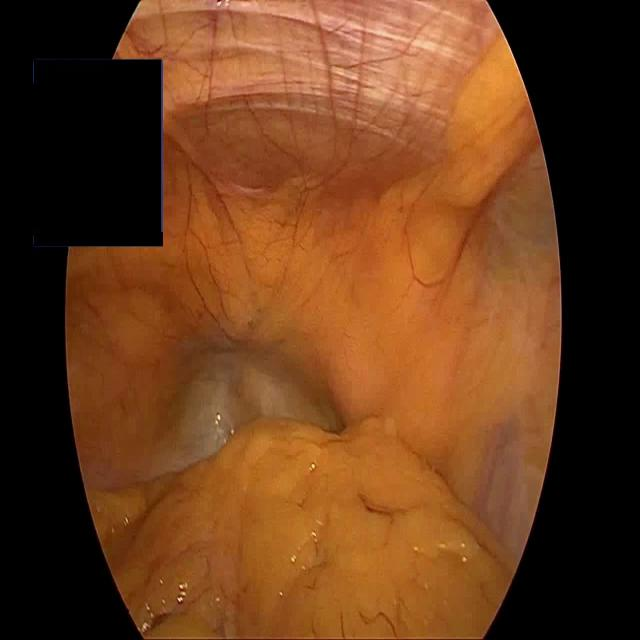surgical-area: (66, 0, 561, 639)
